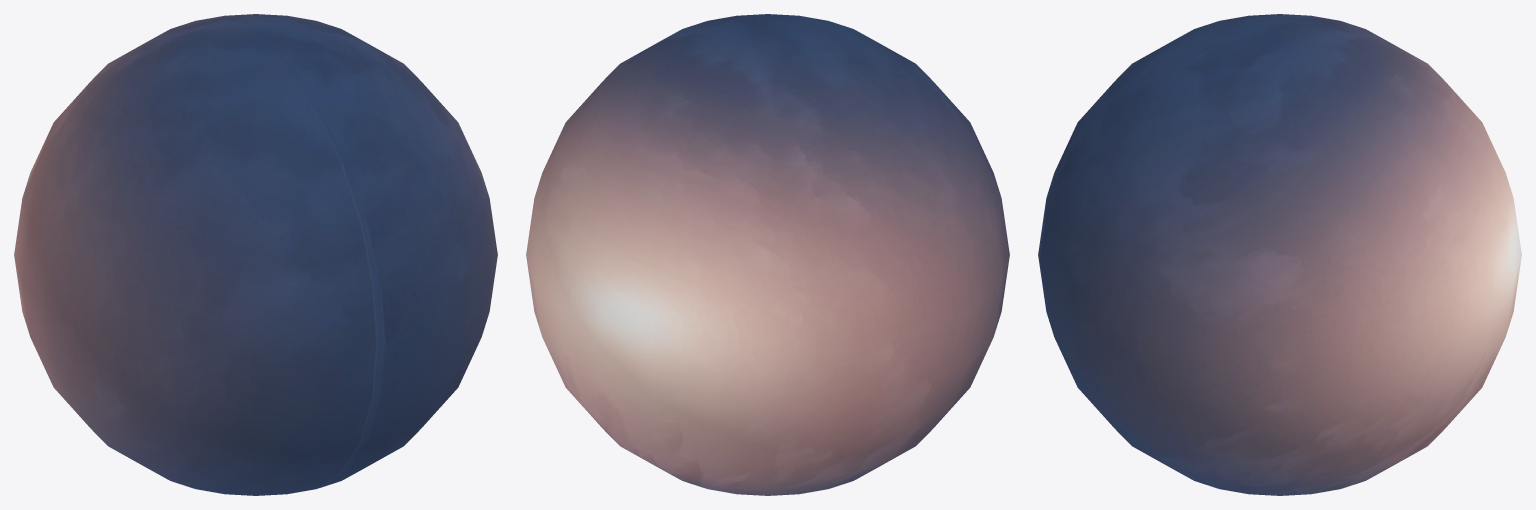
Rendered from ship.glb.
3 views of the same model, side by side, from view 1: azimuth 30°, elevation 25°; view 2: azimuth 150°, elevation 25°; view 3: azimuth 270°, elevation 25° (orthographic).
Visible parts, largest first — view 1: Sky; view 2: Sky; view 3: Sky.
Part boxes in pixels (x1,y1,x2,y2): Sky: (14,14,497,495); Sky: (526,14,1009,495); Sky: (1038,14,1521,495).
Size of the model in its own units: 12.02 by 12.02 by 12.02.
6 materials, 6 textured.
